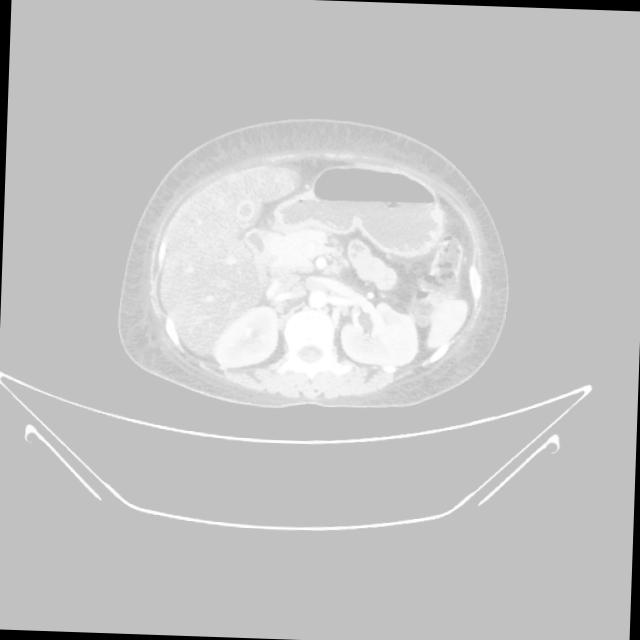NORMAL: (124, 131, 501, 414)
